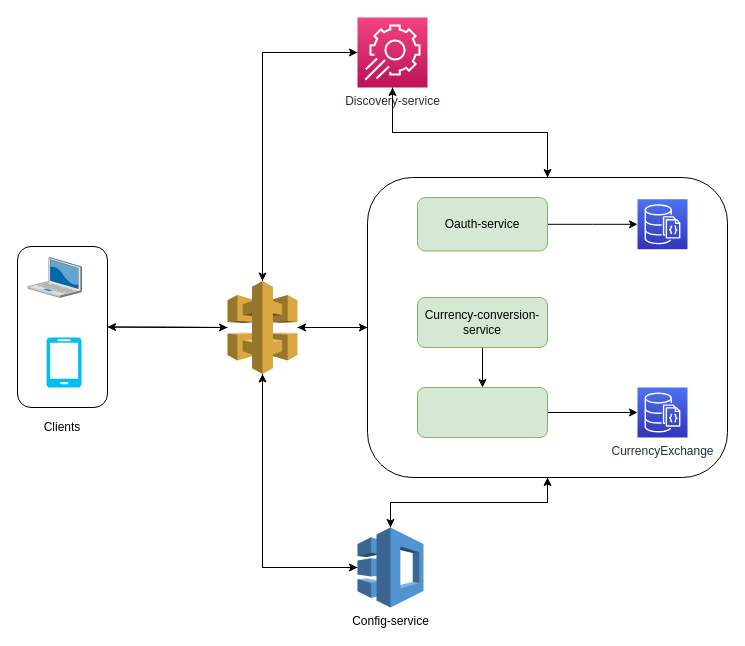
Some shapes in this 745 by 646 pixel diagram are drawn without their labels. The shapes that lost their labels are listed below. From the top down, each one's centre as x and y in pixels, then its label:
(662,223): Users
(262,327): API-gateway
(482,412): Currency-exchange-service
